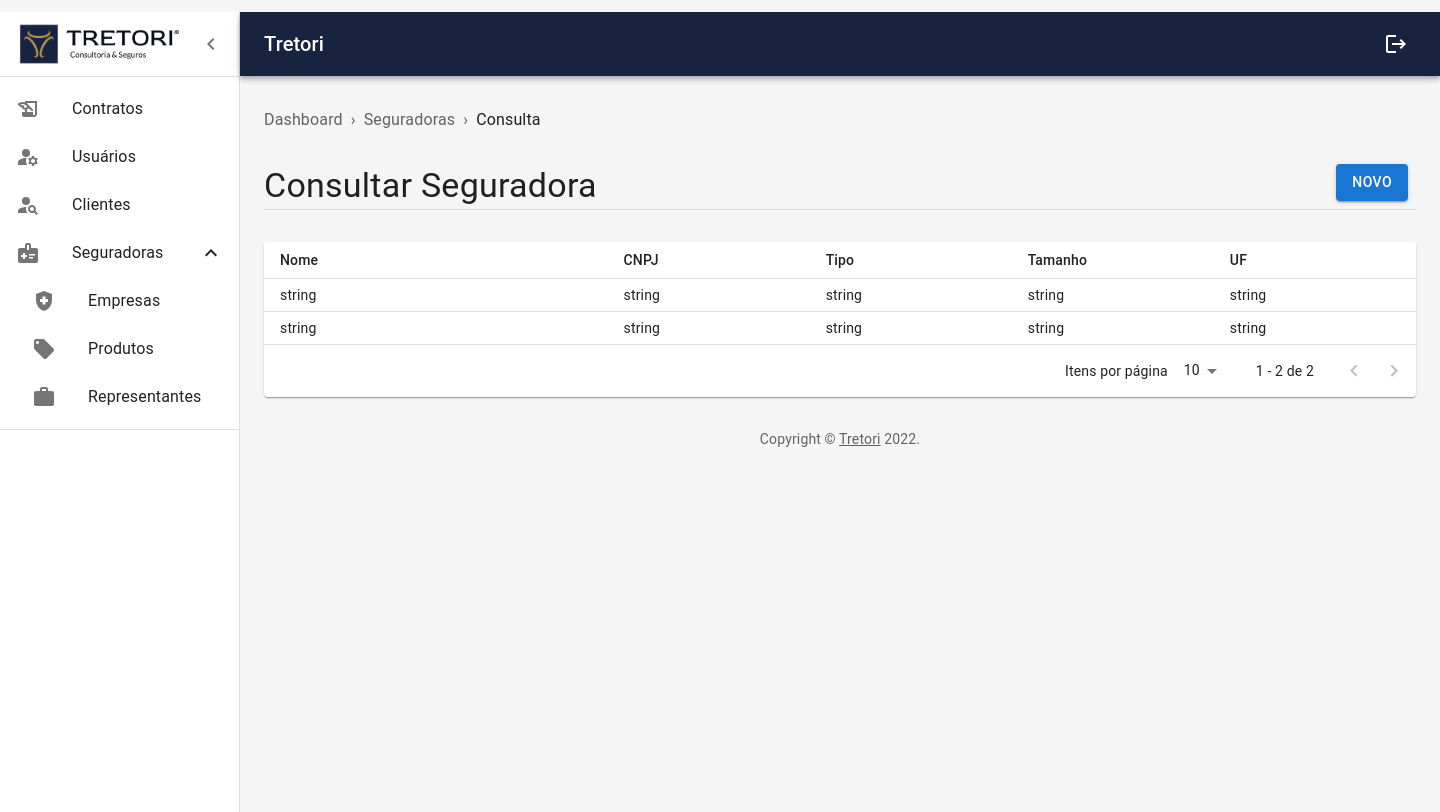
Test case: Insurance Page › should view an existing insurance
The width and height of the screenshot is (1440, 812).
Click the cell with id "0-fantasy_name" at {"x": 436, "y": 296}, box top-left (264, 279), bottom-right (608, 312)
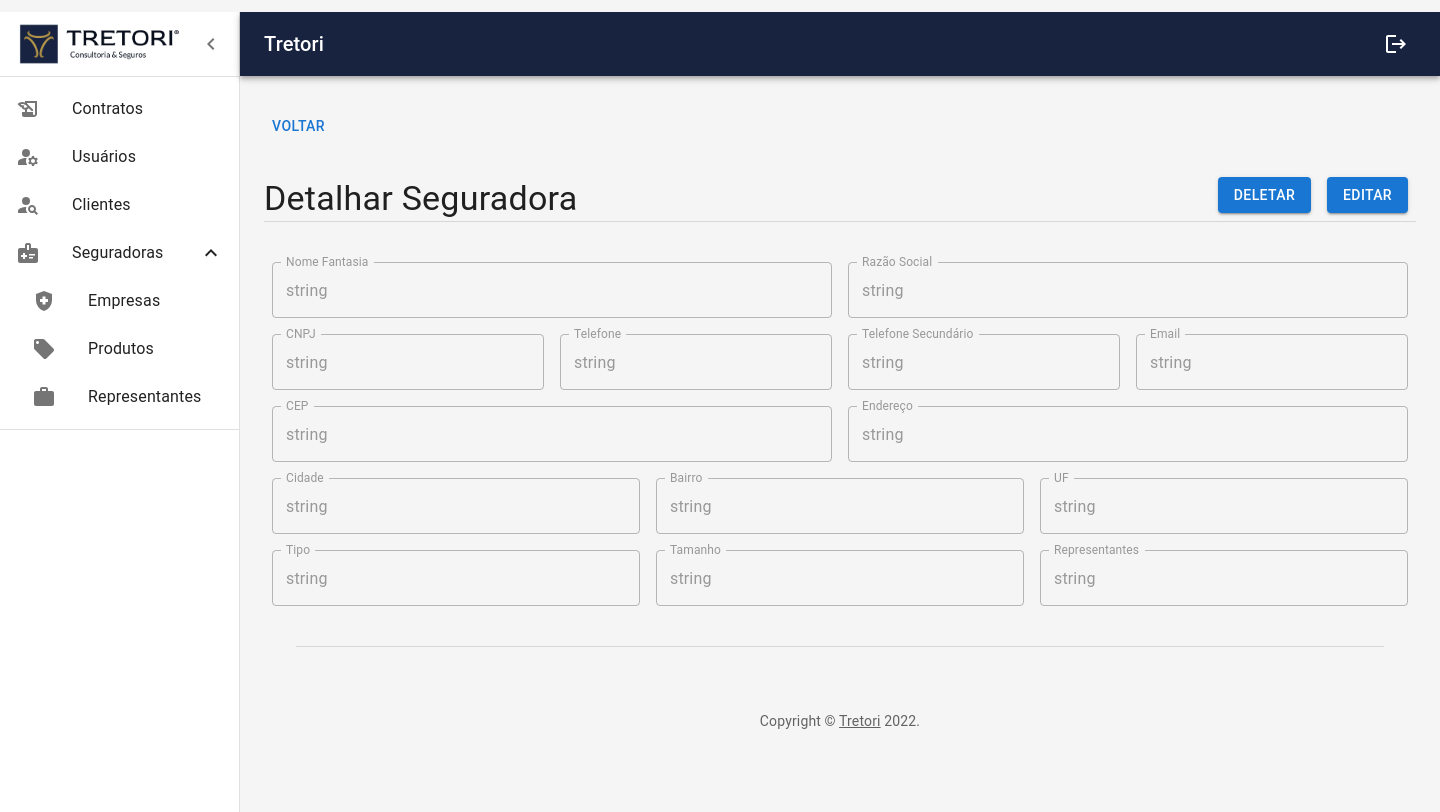
Expected: the field named "email" holds "string", top-left (1136, 334), bottom-right (1408, 390)
Expected: the field named "phone" holds "string", top-left (560, 334), bottom-right (832, 390)
Expected: the field named "phone_secondary" holds "string", top-left (848, 334), bottom-right (1120, 390)
